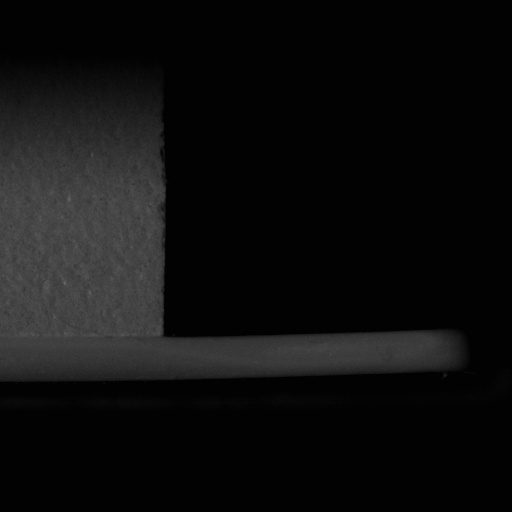changdai: (160, 331, 466, 377)
